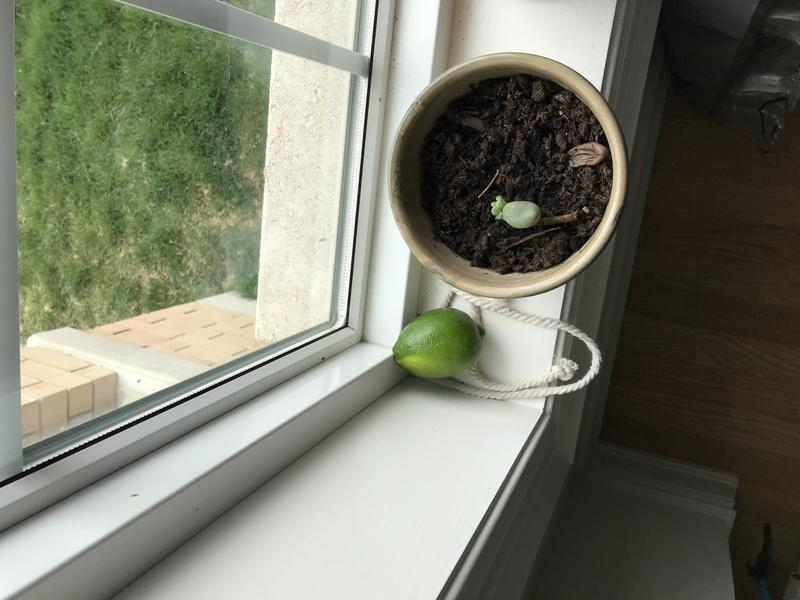lime: (387, 302, 489, 387)
